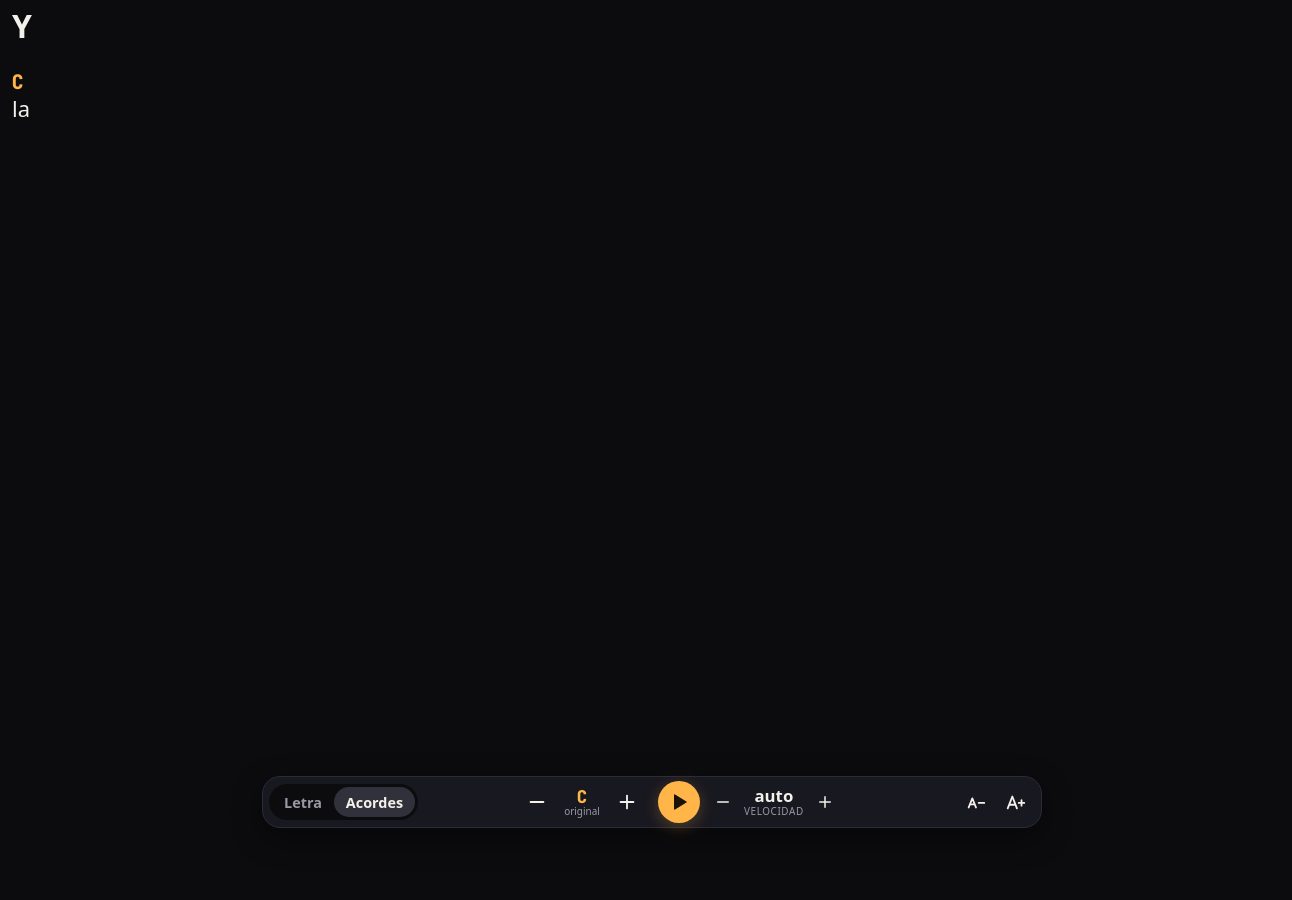
Test case: SongPanel › {duration} gives an automatic speed until changed
The width and height of the screenshot is (1292, 900).
Expected: the text "auto" is shown, [754,787,793,806]
Click the button named "Más lento".
click(723, 802)  # box [704,783,742,821]
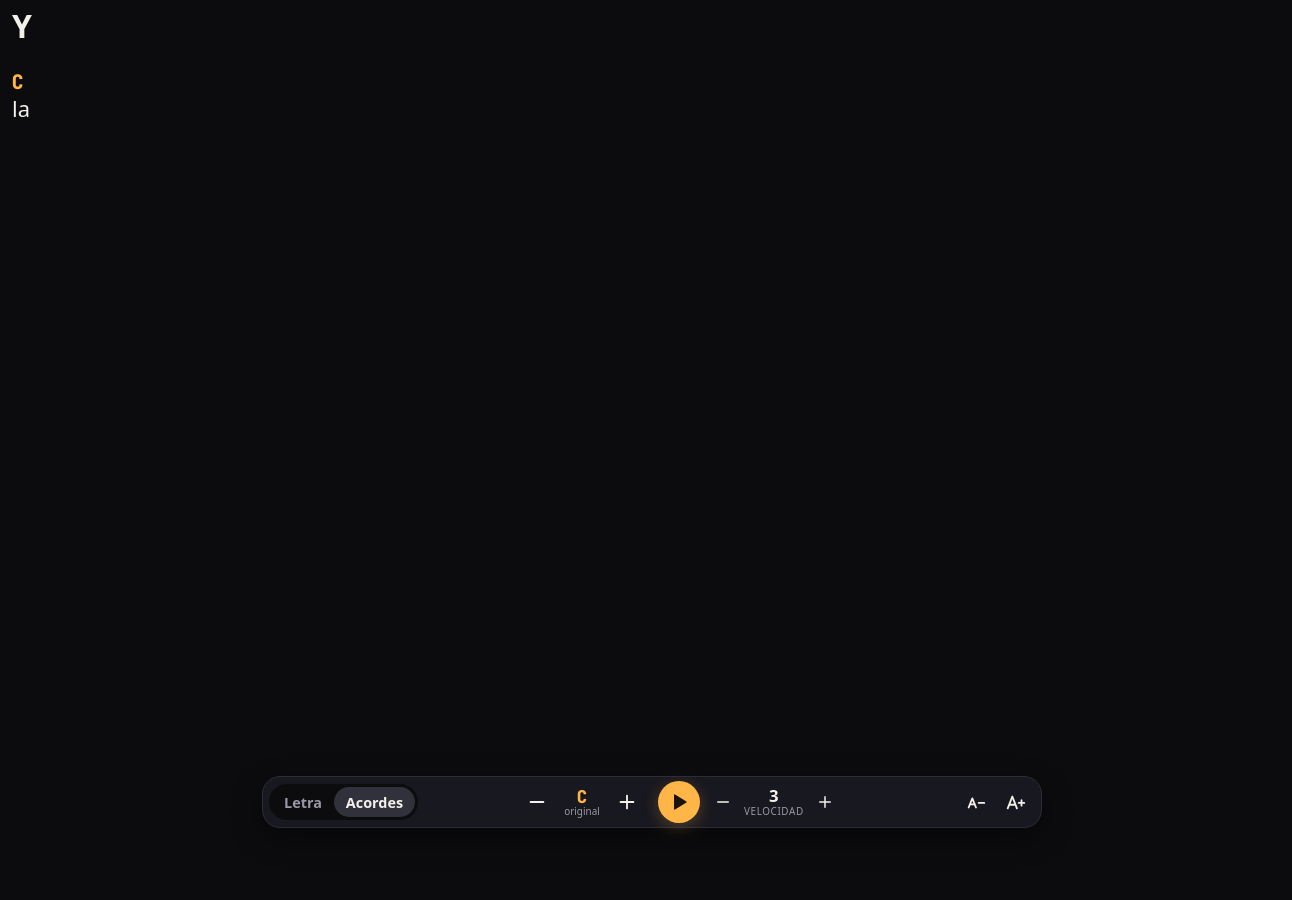
Expected: the text "auto" is gone
